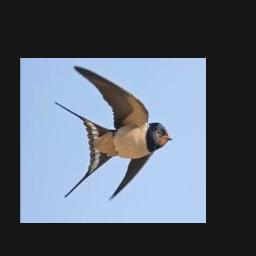Swallow: (55, 65, 172, 201)
